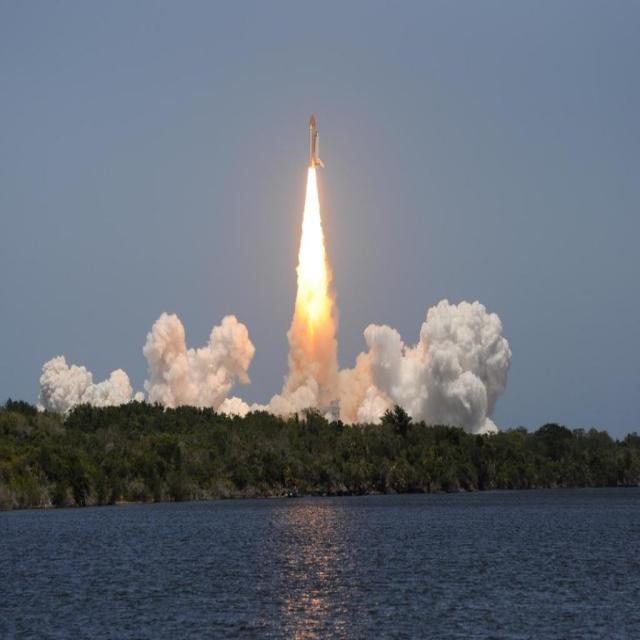rocket: (293, 110, 329, 388)
